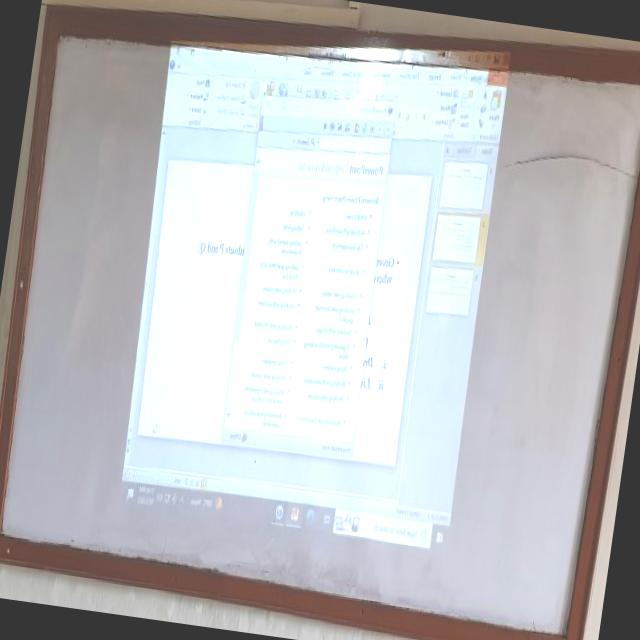Slide: (115, 39, 512, 572)
White-board: (0, 18, 640, 640)
